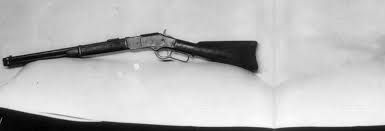gun: (1, 31, 263, 79)
